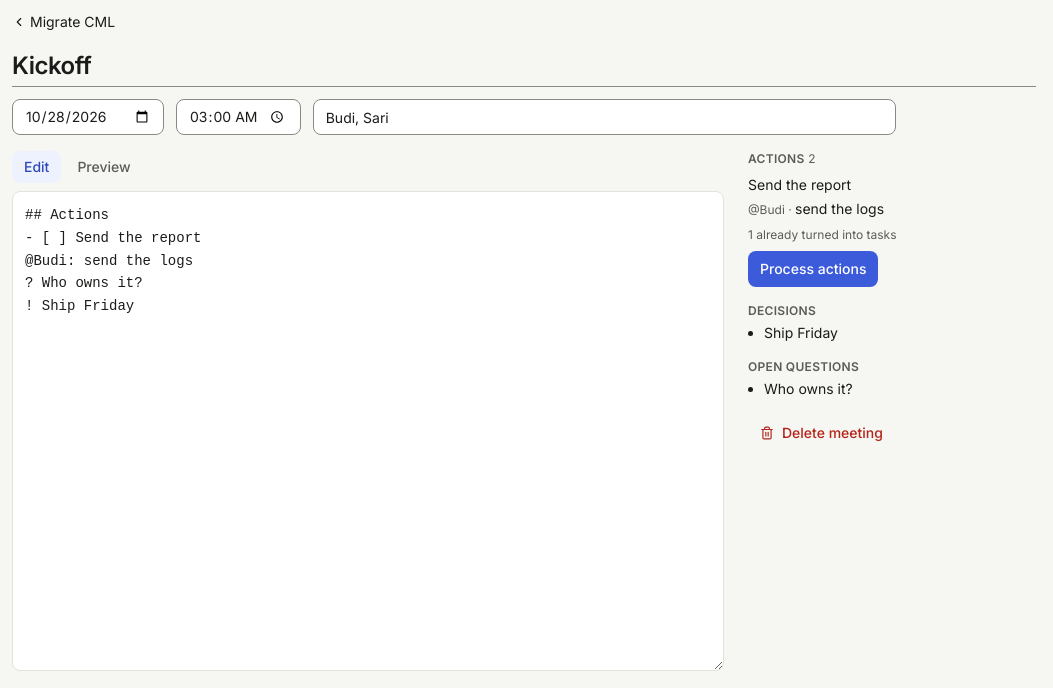
Test case: MeetingPage › autosave › saves typing after a pause and shows Saving then Saved
Replace the text in the text box named "Meeting notes" with "new notes": (368, 431) 12,191 -> 724,671
Wait 1000 ms
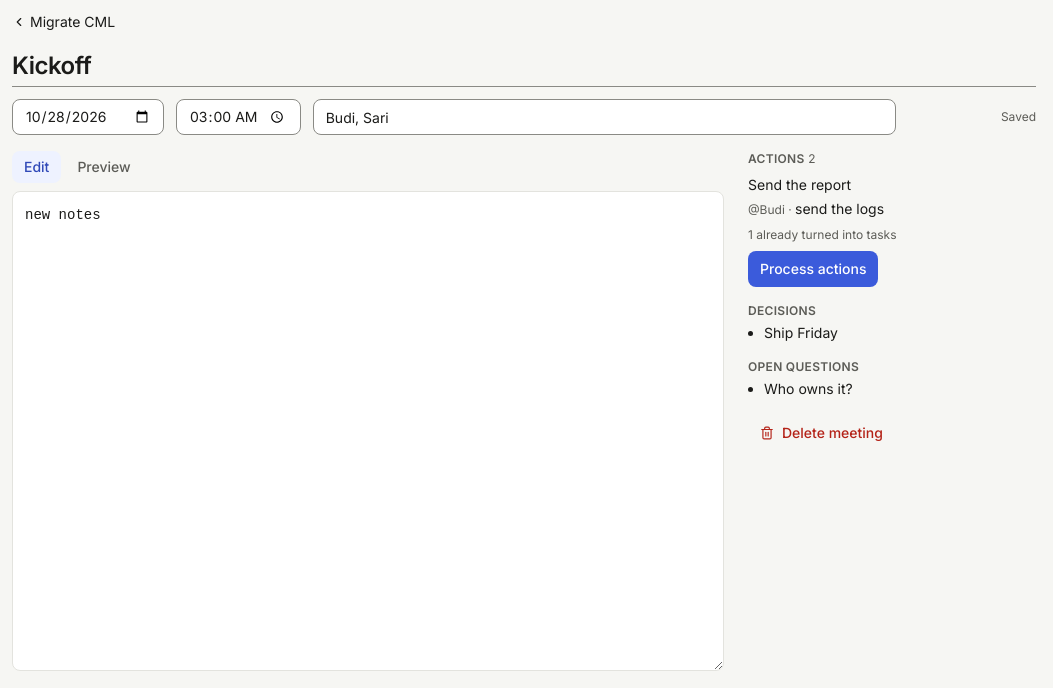
Check: the text "Saved" is shown, box 1001,109 -> 1036,124
